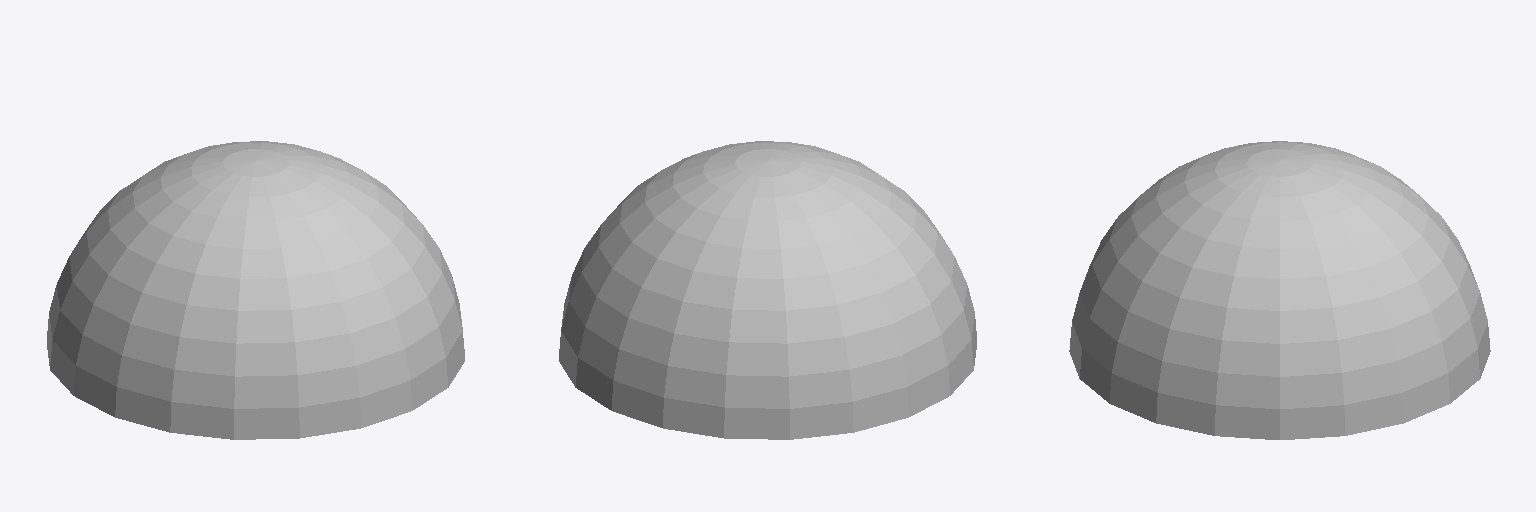
Rendered from pokeArrica.obj.
3 views of the same model, side by side, from view 1: azimuth 30°, elevation 25°; view 2: azimuth 150°, elevation 25°; view 3: azimuth 270°, elevation 25° (orthographic).
Visible parts, largest first — view 1: polySurface2 pSphere1; view 2: polySurface2 pSphere1; view 3: polySurface2 pSphere1.
Boxes of the visible parts, x1=… form: polySurface2 pSphere1: x1=47, y1=141, x2=464, y2=439; polySurface2 pSphere1: x1=559, y1=141, x2=976, y2=439; polySurface2 pSphere1: x1=1069, y1=141, x2=1490, y2=439.
Bounding box in the file's own units: 2 × 1 × 2.